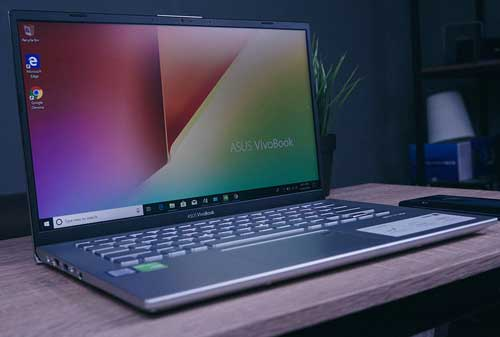Laptop: (5, 3, 500, 318)
